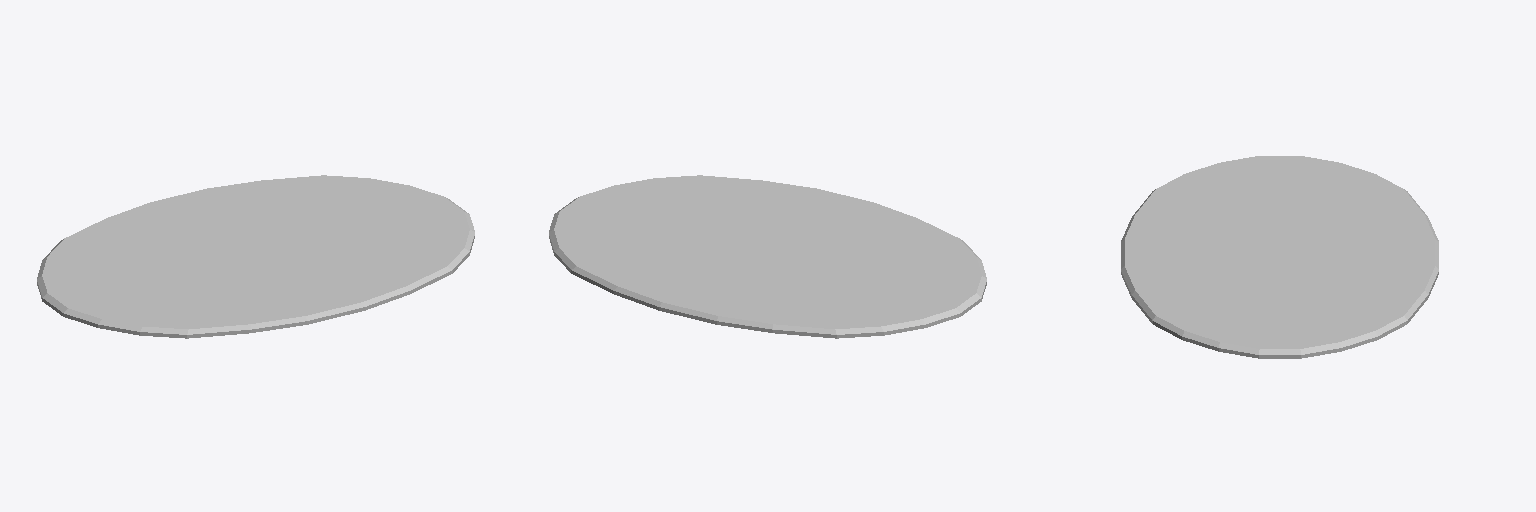
Rendered from spk_rug.obj.
The picture shows the model from 3 angles: view 1: azimuth 30°, elevation 25°; view 2: azimuth 150°, elevation 25°; view 3: azimuth 270°, elevation 25°; orthographic projection.
Parts seen in each view (by area): view 1: Cylinder001; view 2: Cylinder001; view 3: Cylinder001.
Boxes of the visible parts, x1=… form: Cylinder001: x1=37, y1=175, x2=474, y2=338; Cylinder001: x1=549, y1=175, x2=986, y2=338; Cylinder001: x1=1121, y1=156, x2=1438, y2=358.
Size of the model in its own units: 5.84 by 0.1 by 3.97.